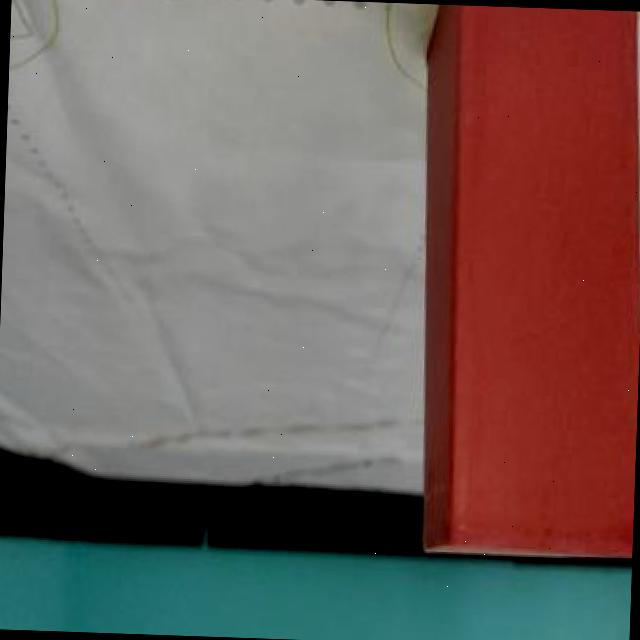redbox: (405, 3, 640, 562)
